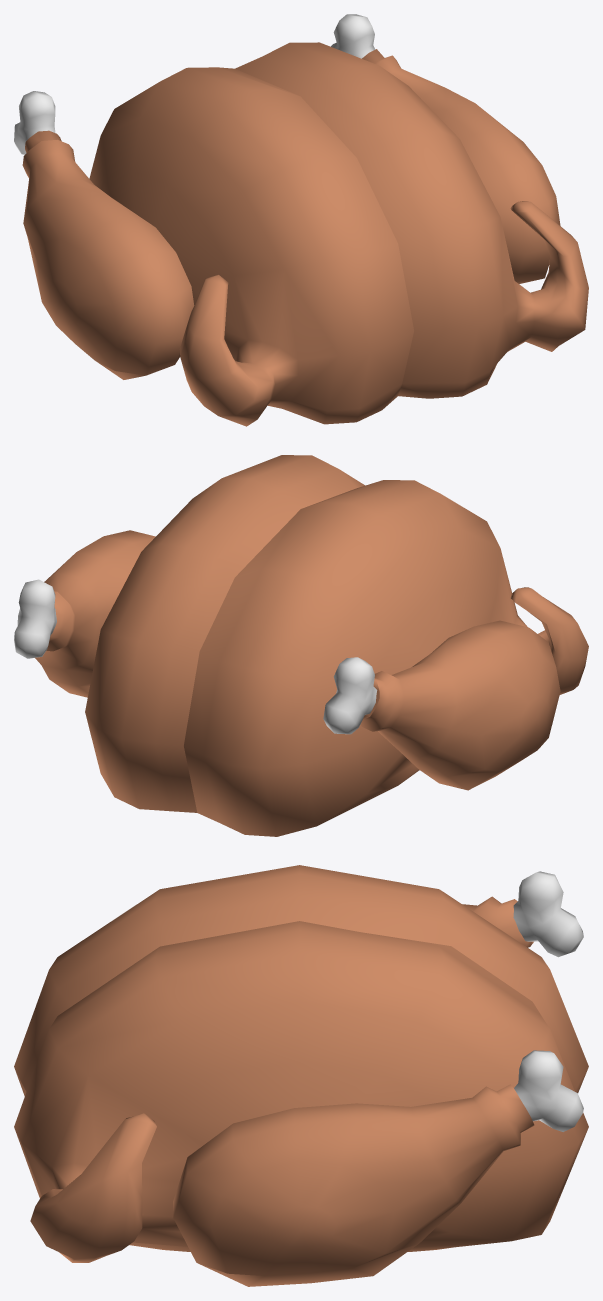
File: chicken.gltf.glb
3 views of the same model, one above another, from view 1: azimuth 30°, elevation 25°; view 2: azimuth 150°, elevation 25°; view 3: azimuth 270°, elevation 25° (orthographic). The views are drawn at different scales.
Parts seen in each view (by area): view 1: chicken; view 2: chicken; view 3: chicken.
Part boxes in pixels (<box>): chicken: <box>14,14,588,426</box>; chicken: <box>14,455,588,836</box>; chicken: <box>14,865,588,1286</box>.
Bounding box in the file's own units: 0.8505 × 0.4669 × 0.7708.
